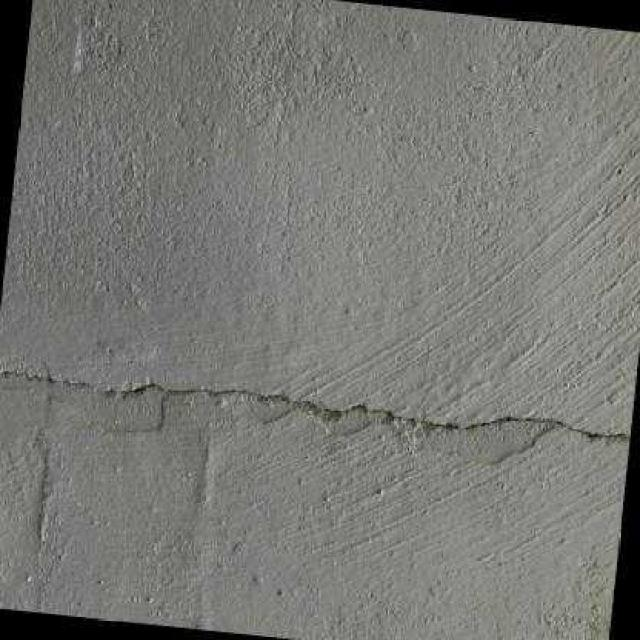D00: (0, 367, 630, 444)
